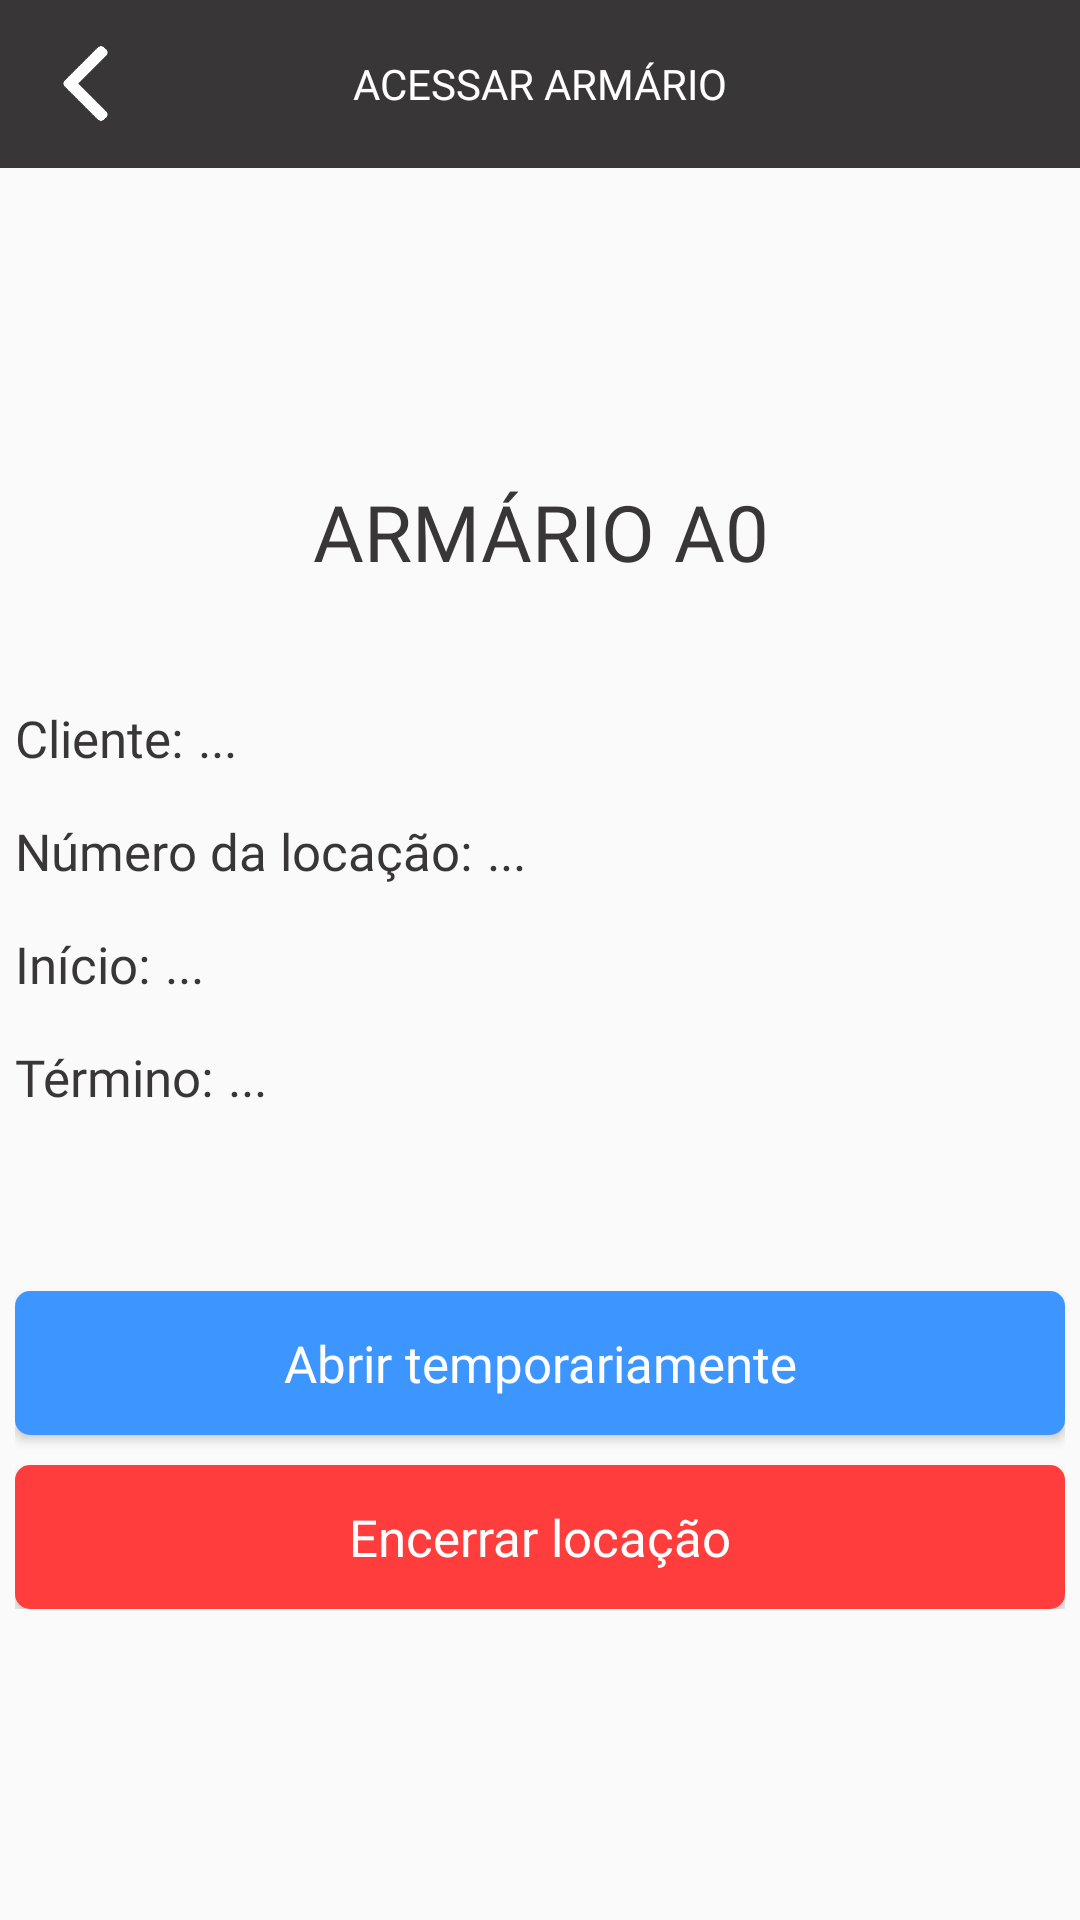

Locate icon controls on the screen. Image size 1080 × 1920, boxes as box=[x1, y1, x2, y2].
left arrow: box=[63, 46, 108, 121]
